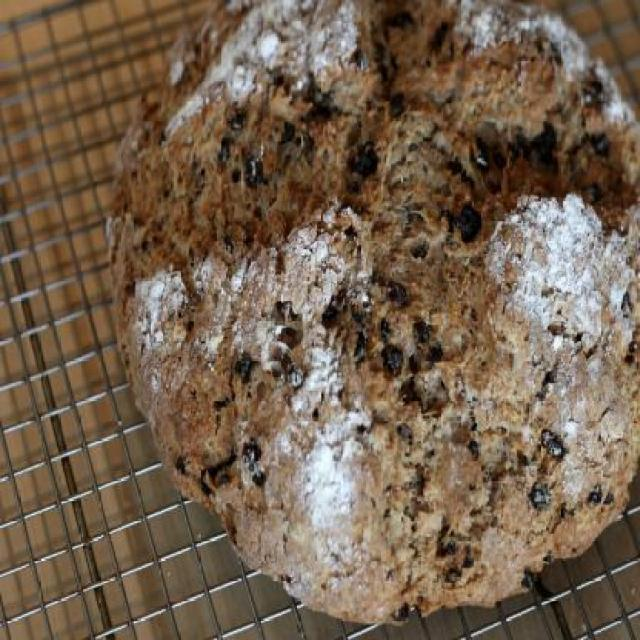Bread: (43, 0, 640, 629)
